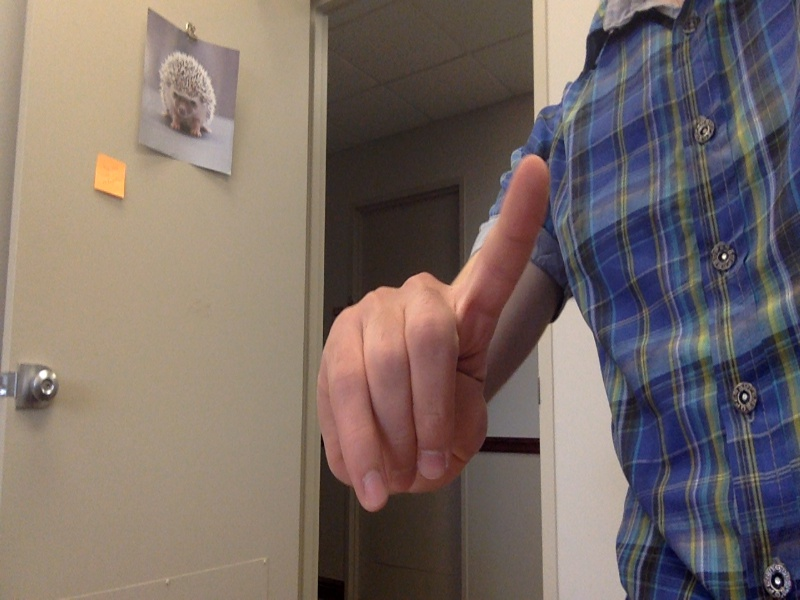1-hand: (315, 155, 550, 504)
